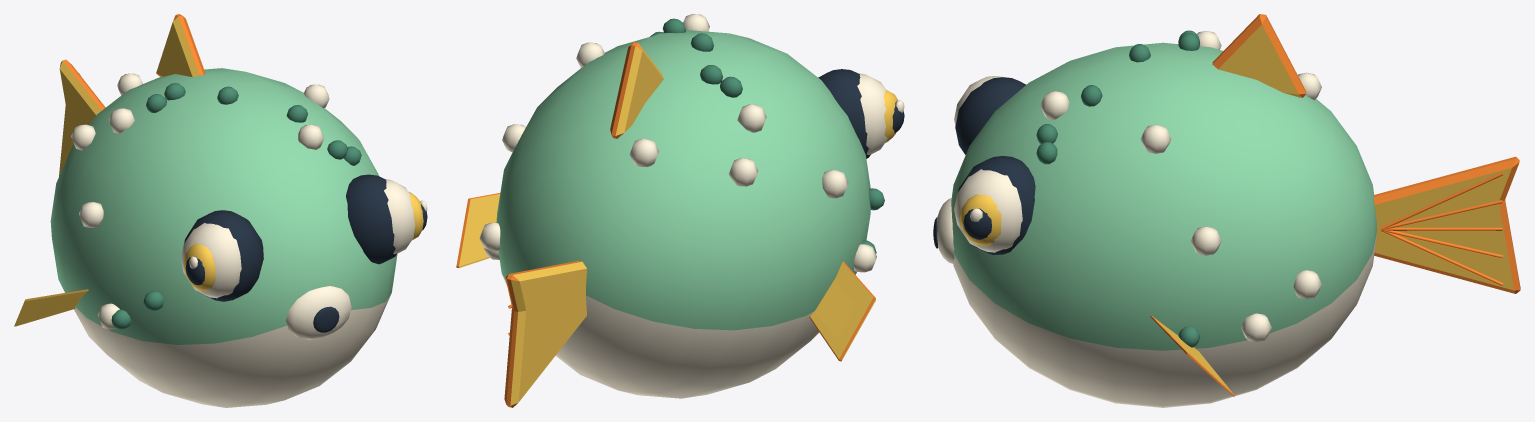
Rendered from pufferfish-low.glb.
3 views of the same model, side by side, from view 1: azimuth 30°, elevation 25°; view 2: azimuth 150°, elevation 25°; view 3: azimuth 270°, elevation 25° (orthographic). The views are drawn at different scales.
Parts seen in each view (by area): view 1: BodyMesh, TailMesh; view 2: BodyMesh, TailMesh; view 3: BodyMesh, TailMesh.
Part boxes in pixels (<box>): BodyMesh: <box>14,14,427,407</box>; TailMesh: <box>59,59,105,176</box>; BodyMesh: <box>456,14,904,398</box>; TailMesh: <box>504,260,586,407</box>; BodyMesh: <box>933,14,1376,407</box>; TailMesh: <box>1374,156,1520,293</box>.
Size of the model in its own units: 2.01 by 1.74 by 2.46.
